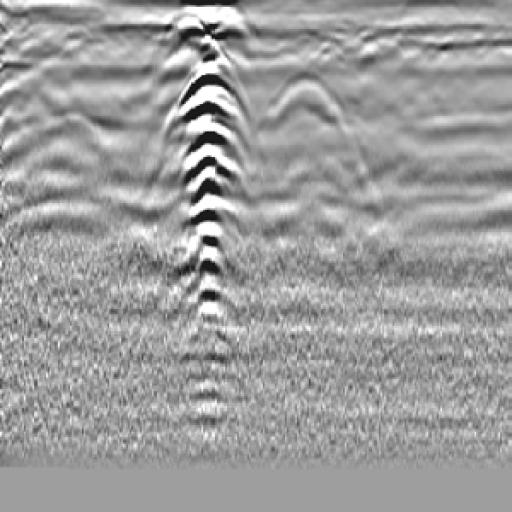metalic: (144, 26, 273, 386)
nonmetalic: (251, 64, 382, 195)
